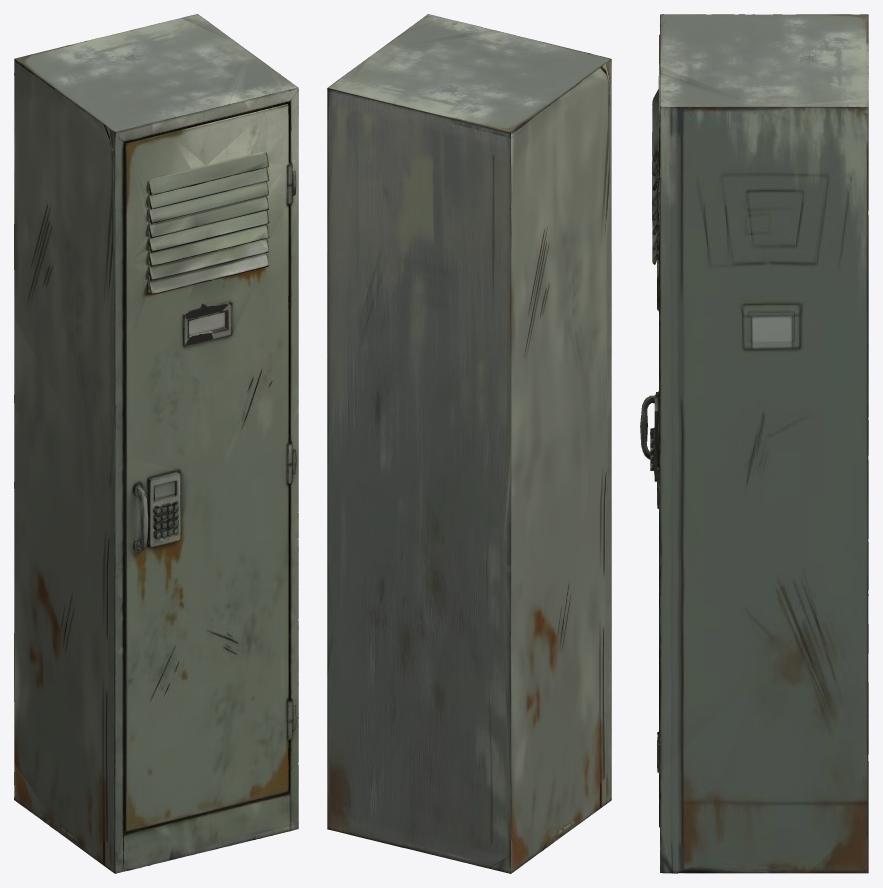
The model's file is RustyLocker_Doors.glb.
3 renders of one model, left to right at view 1: azimuth 30°, elevation 25°; view 2: azimuth 150°, elevation 25°; view 3: azimuth 270°, elevation 25°, orthographic. The views are drawn at different scales.
Visible parts, largest first — view 1: Door, RustyLocker; view 2: RustyLocker; view 3: RustyLocker, Door.
Part boxes in pixels (x1=…): Door: x1=123, y1=110, x2=290, y2=851; RustyLocker: x1=14, y1=14, x2=298, y2=873; RustyLocker: x1=327, y1=14, x2=611, y2=873; RustyLocker: x1=642, y1=14, x2=868, y2=873; Door: x1=640, y1=49, x2=660, y2=827.
Bounding box in the file's own units: 0.48 × 1.85 × 0.5.
Materials: 2 (1 with a texture image).
